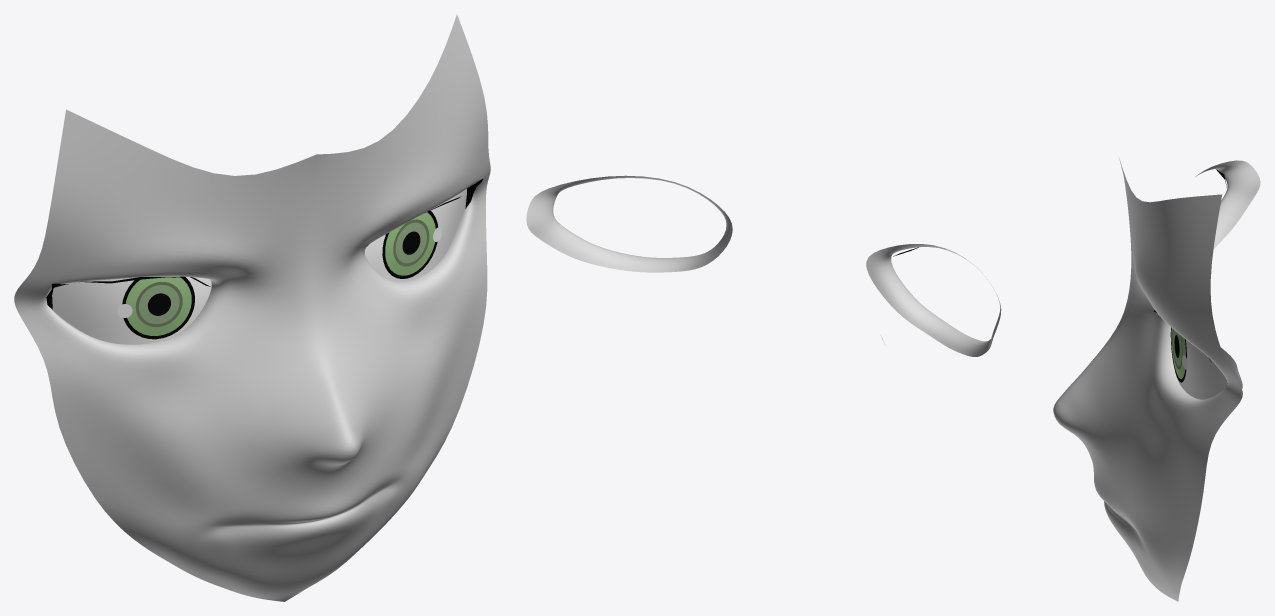
File: charactermodel.glb
3 views of the same model, side by side, from view 1: azimuth 30°, elevation 25°; view 2: azimuth 150°, elevation 25°; view 3: azimuth 270°, elevation 25° (orthographic). The views are drawn at different scales.
Visible parts, largest first — view 1: Cube, Cube.001, Circle, Plane; view 2: Cube; view 3: Cube, Cube.001, Circle.
Part boxes in pixels (box(x1,y1,x2,y2)): Cube: box(14, 14, 490, 601); Cube.001: box(46, 189, 466, 344); Circle: box(122, 210, 437, 339); Plane: box(46, 178, 483, 309); Cube: box(526, 175, 1001, 356); Cube: box(1053, 157, 1260, 601); Cube.001: box(1174, 340, 1242, 399); Circle: box(1170, 327, 1186, 382).
Bounding box in the file's own units: 8.13 × 8.59 × 3.26.
